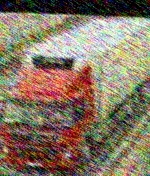truck: (0, 14, 150, 172)
